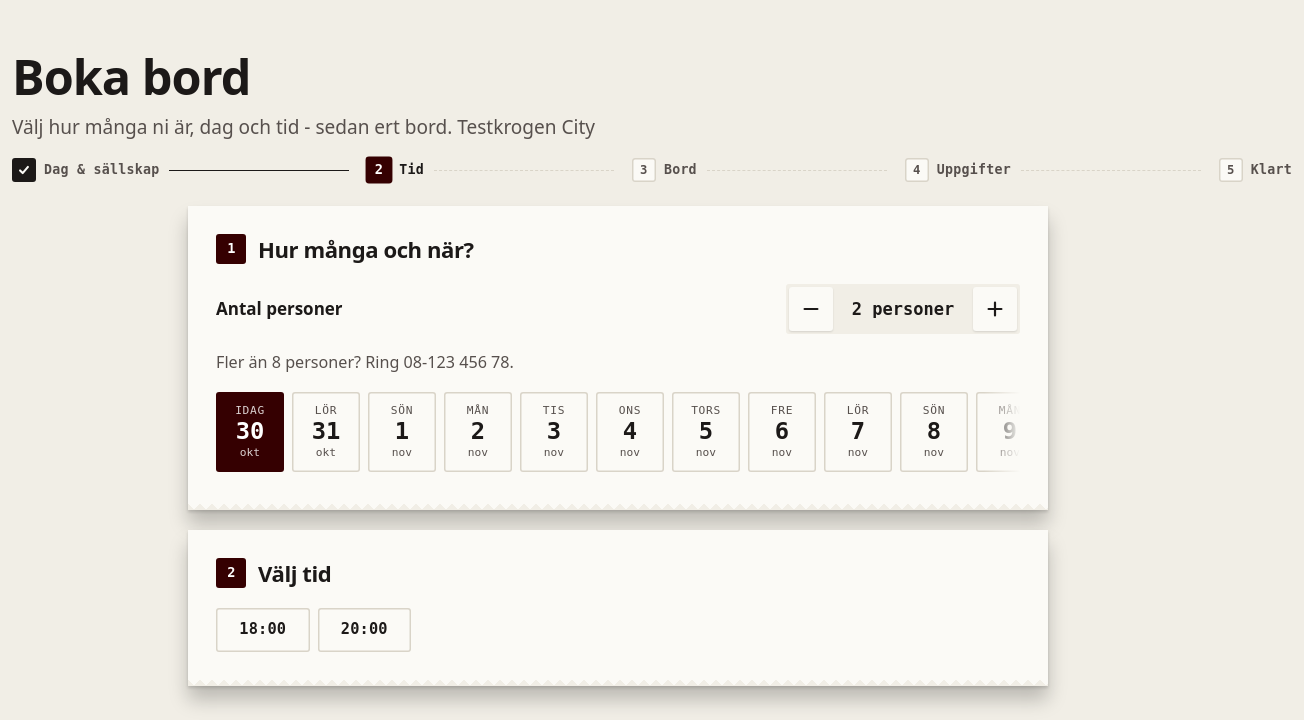
Test: BokaBordPage › hides times that cannot seat the party
This screenshot has width=1304, height=720.
Expected: the button "20:00" is shown, [318,608,411,652]
Step 1. Select "3 personer" in the dropdown labelled "Antal personer" → (903, 309), box [839,287,967,331]
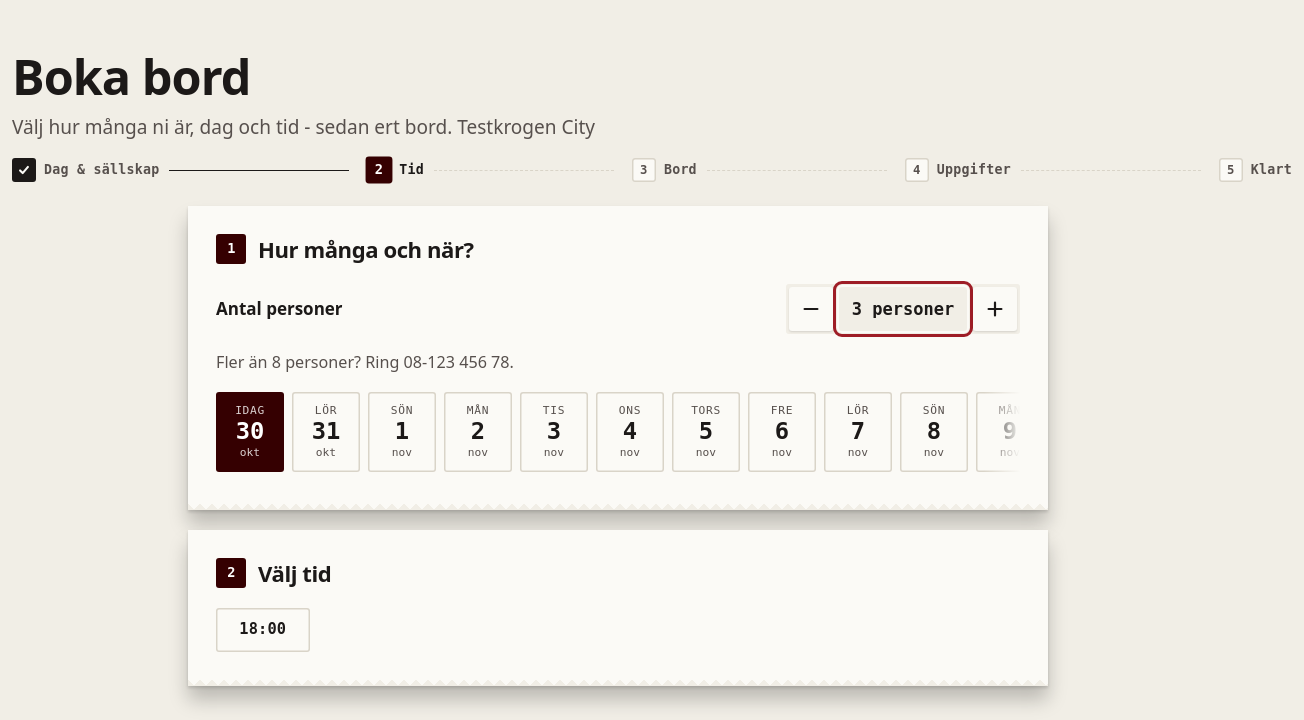
Expected: the button "18:00" is shown, [216,608,310,652]
Expected: the button "20:00" is gone
